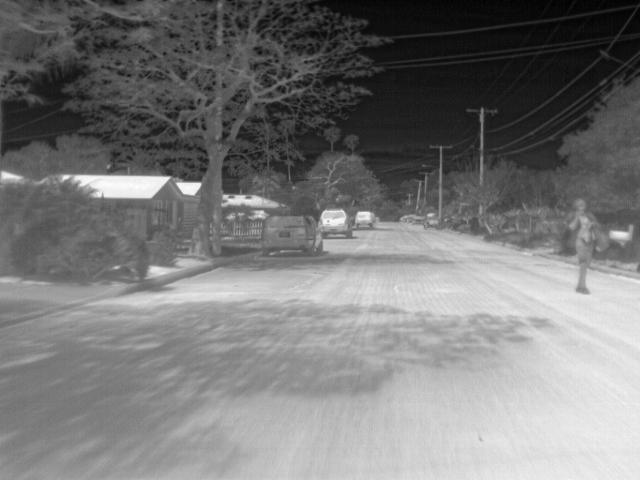car: (261, 214, 323, 256), (319, 209, 353, 238), (355, 211, 378, 229), (424, 213, 438, 228), (410, 216, 422, 223)
person: (566, 195, 602, 295)
